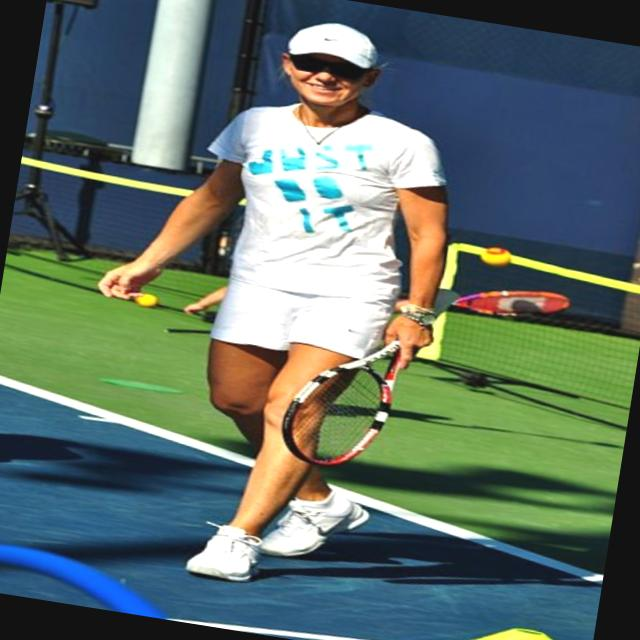Tennis ball: (134, 293, 156, 308)
